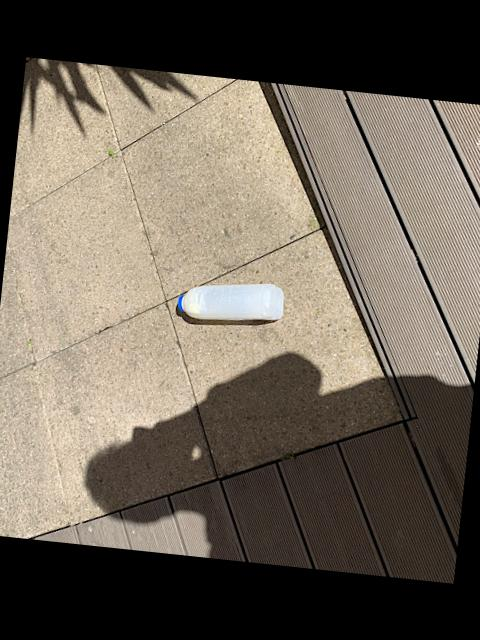plastic: (180, 285, 282, 321)
